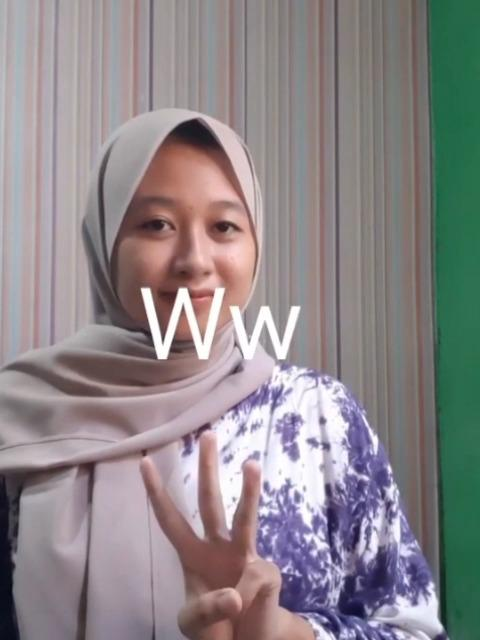W: (138, 426, 286, 640)
